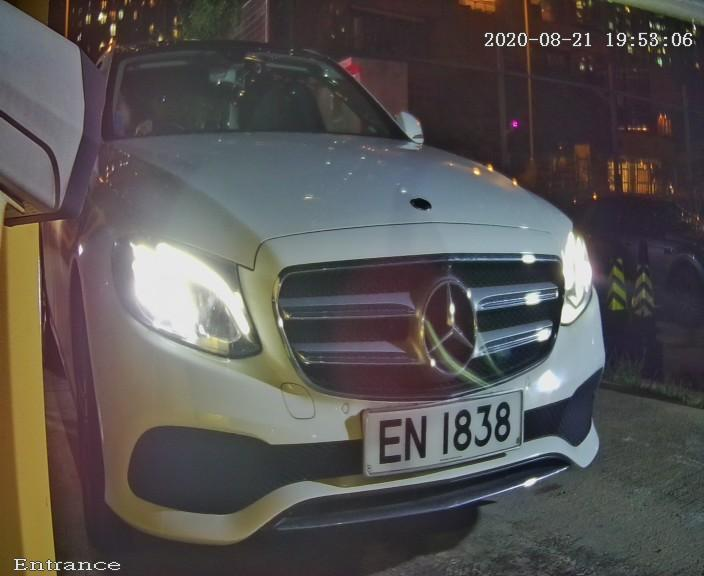License Plate: (348, 364, 536, 500)
